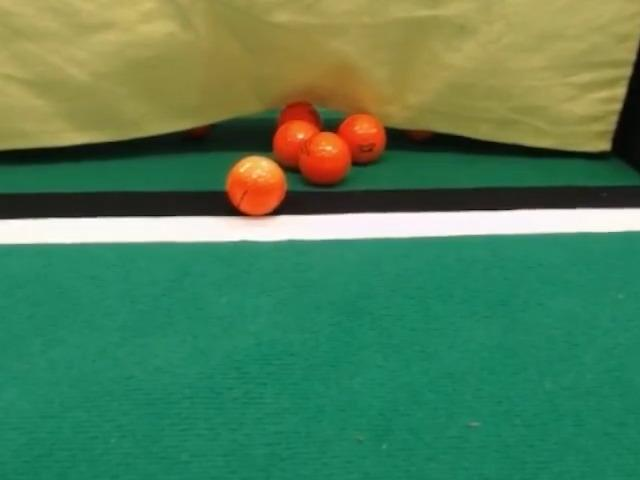Ball: (225, 155, 286, 216), (298, 131, 351, 185), (337, 113, 386, 164), (272, 120, 319, 169), (277, 102, 322, 128)
